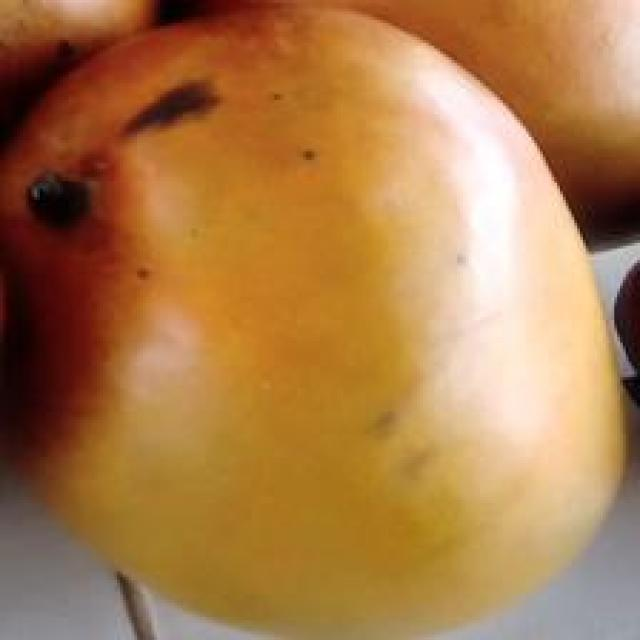Mango: (7, 8, 626, 640)
